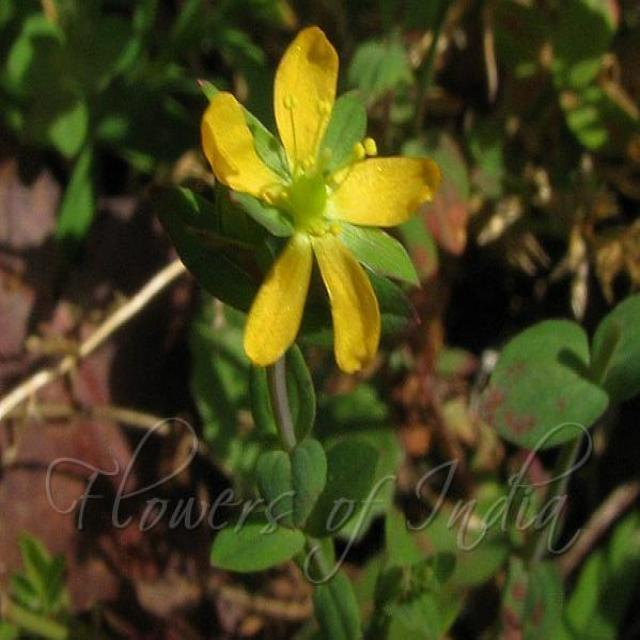organic waste: (205, 34, 430, 364)
